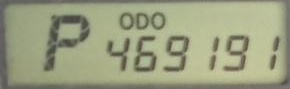1: (268, 34, 281, 71), (207, 35, 220, 70)
4: (105, 36, 130, 71)
6: (132, 35, 158, 72)
9: (221, 34, 250, 72), (162, 35, 190, 72)
X: (41, 13, 90, 73), (150, 11, 165, 30), (118, 12, 133, 30), (135, 12, 148, 29)
